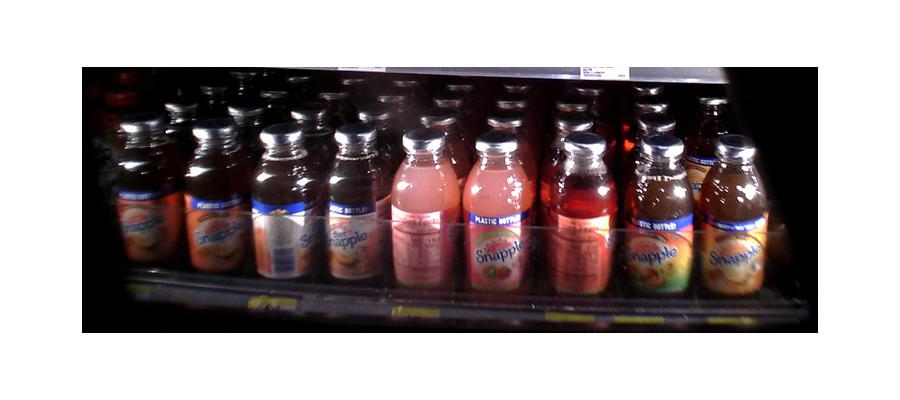bottle: (546, 130, 615, 301), (108, 110, 181, 270), (699, 130, 767, 301), (391, 127, 458, 297), (464, 131, 531, 296), (627, 132, 692, 300), (250, 125, 316, 288), (183, 114, 248, 277), (325, 122, 388, 287)
